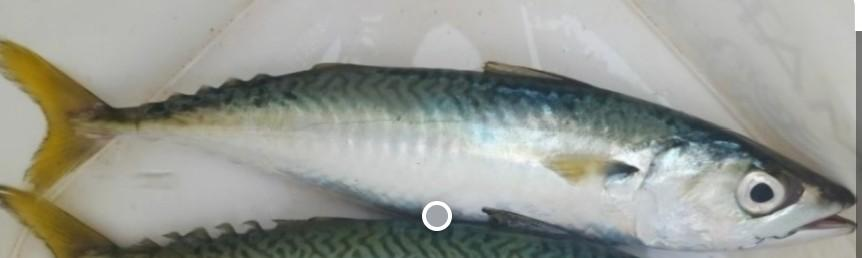fish: (0, 40, 855, 250)
